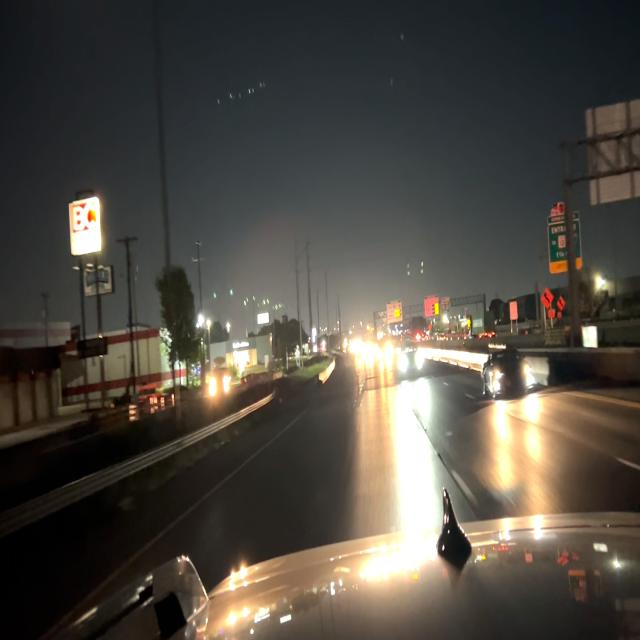back-of-sign: (583, 95, 640, 209)
